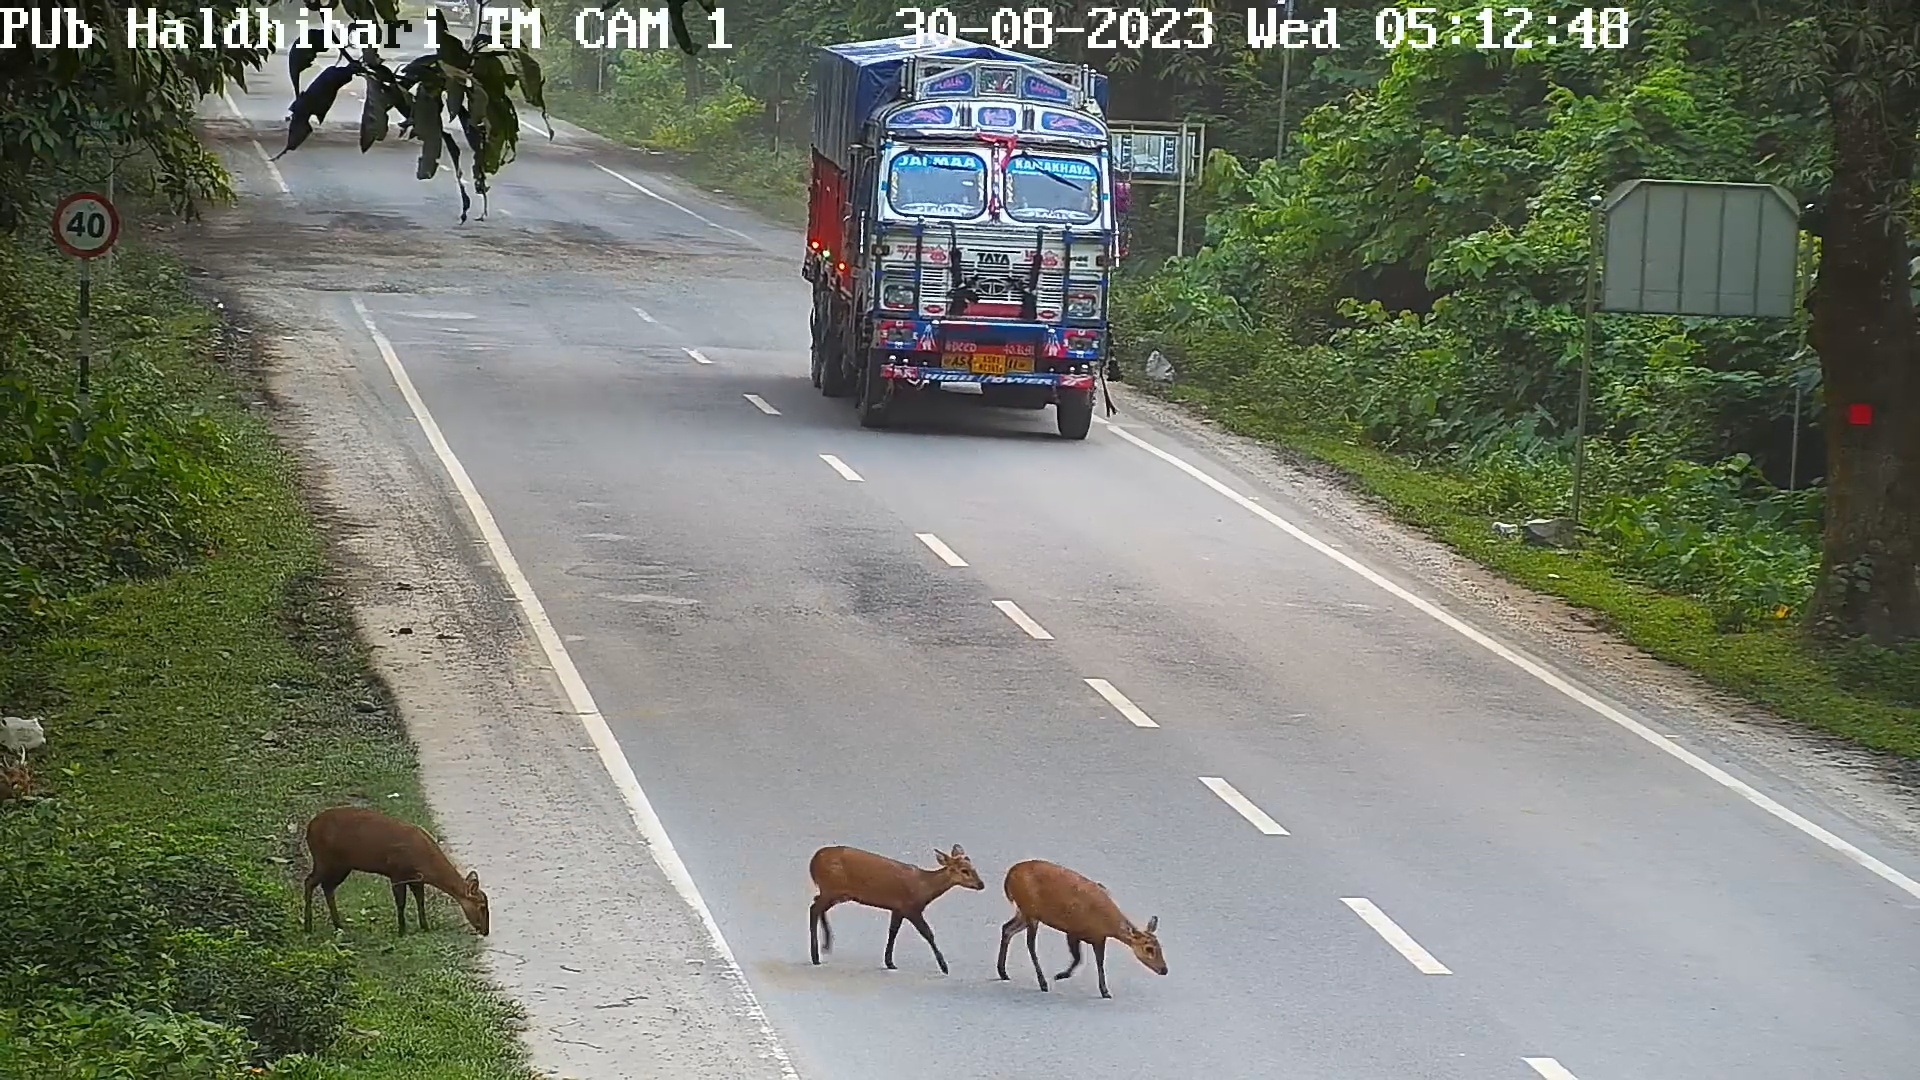deers: (294, 802, 485, 963), (984, 843, 1174, 1002), (802, 845, 980, 986)
